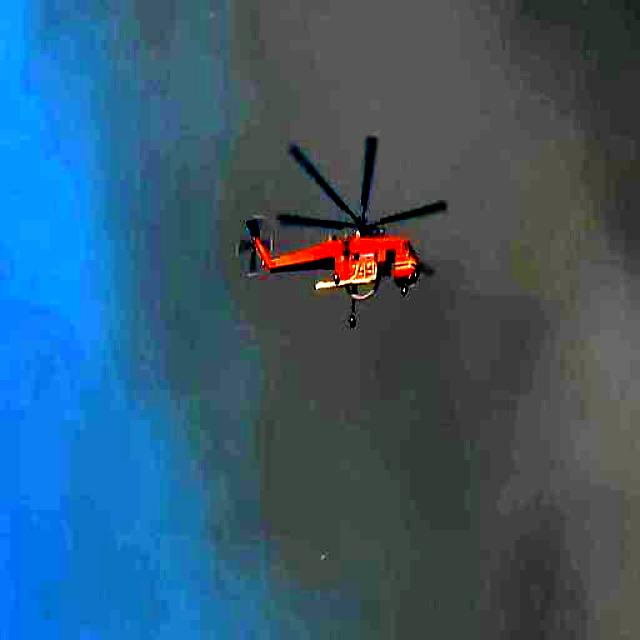drone: (232, 130, 451, 330)
